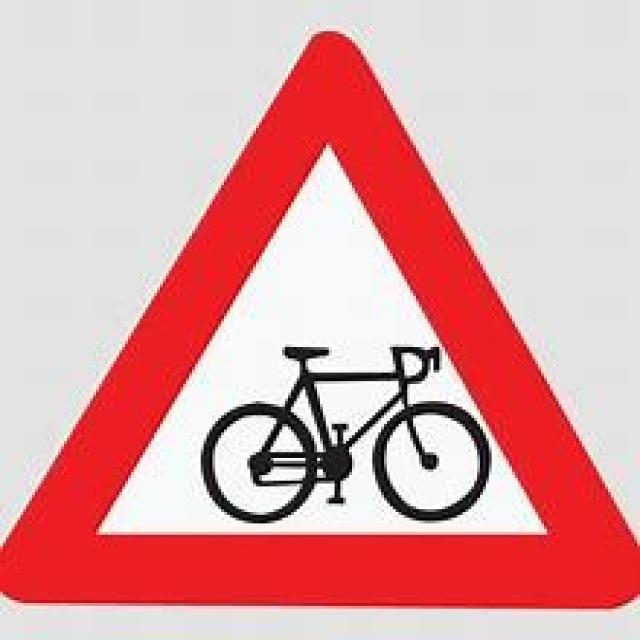cycle_crossing: (0, 23, 637, 606)
